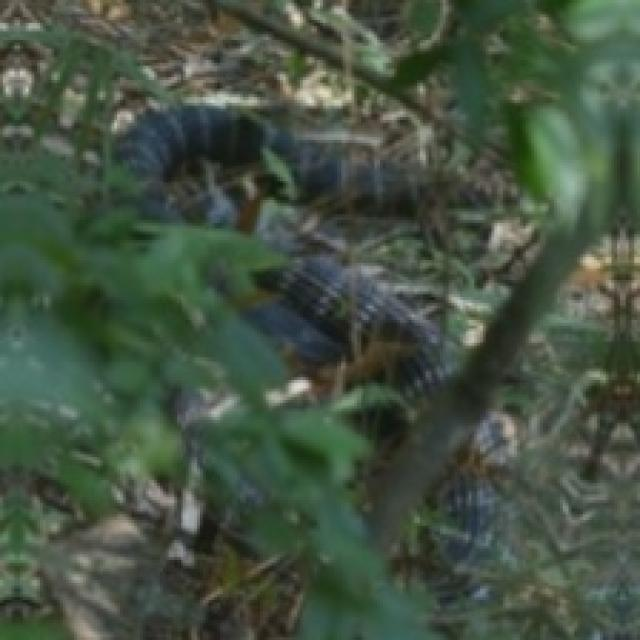king cobra: (117, 106, 514, 229)
